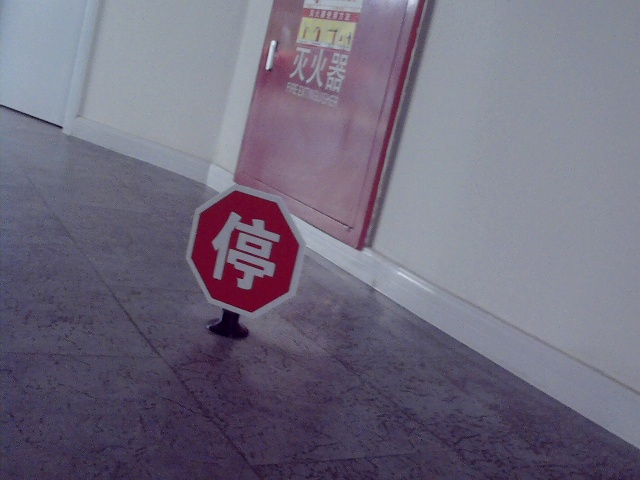stop: (210, 208, 281, 290)
